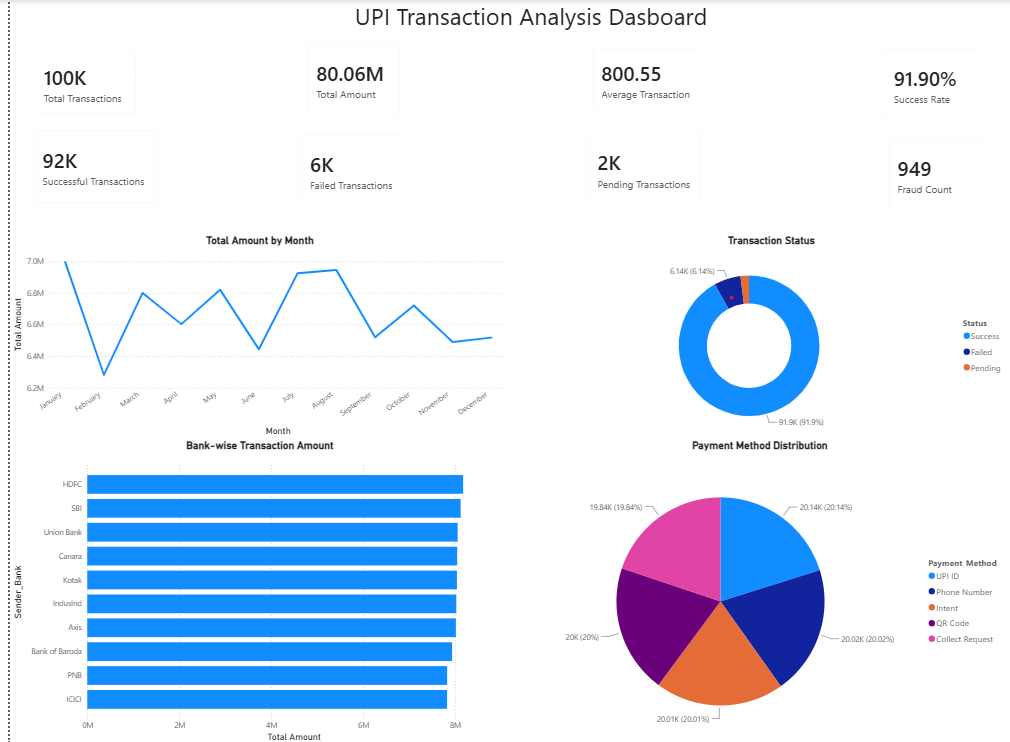

This screenshot's page, from the dashboard's own definition file:
{"tool":"powerbi","page":{"name":"Executive Dasboard","canvas":[1600,1200],"ordinal":0},"visuals":[{"type":"cardVisual","fields":{"Data":["cleaned_upi_transactions.Total Transactions"]},"box":[24.4,71.6,195.7,134.3],"z":0,"group":"g1"},{"type":"cardVisual","fields":{"Data":["cleaned_upi_transactions.Total Amount"]},"box":[460,57.8,181,150],"z":1000,"group":"g1"},{"type":"cardVisual","fields":{"Data":["cleaned_upi_transactions.Average Transaction"]},"box":[915.5,66.7,201.4,134.3],"z":2000,"group":"g1"},{"type":"cardVisual","fields":{"Data":["cleaned_upi_transactions.Successful Transactions"]},"box":[22.2,197.8,232.9,150],"z":3000,"group":"g2"},{"type":"cardVisual","fields":{"Data":["cleaned_upi_transactions.Failed Transactions"]},"box":[450.1,203,192.9,150],"z":4000,"group":"g2"},{"type":"cardVisual","fields":{"Data":["cleaned_upi_transactions.Pending Transactions"]},"box":[910.1,200.8,211.4,152.9],"z":5000,"group":"g2"},{"type":"cardVisual","fields":{"Data":["cleaned_upi_transactions.Success Rate"]},"box":[1384.4,66.7,181,150],"z":6000,"group":"g1"},{"type":"cardVisual","fields":{"Data":["cleaned_upi_transactions.Fraud Count"]},"box":[1390.6,209.4,181,150],"z":7000,"group":"g2"},{"type":"lineChart","fields":{"Y":["cleaned_upi_transactions.Total Amount"],"Category":["cleaned_upi_transactions.Month"]},"box":[0,380,800,328.9],"z":8000},{"type":"textbox","box":[426.7,2.2,815.6,60],"z":8001},{"type":"group","id":"g1","title":"Group 1","box":[24.4,57.8,1541,158.9],"z":8002},{"type":"group","id":"g2","title":"Group 2","box":[22.2,197.8,1549.4,161.6],"z":8003},{"type":"donutChart","title":"Transaction Status","fields":{"Category":["cleaned_upi_transactions.Status"],"Y":["CountNonNull(cleaned_upi_transactions.Transaction_ID)"]},"box":[835.6,380,764.4,328.9],"z":8004},{"type":"pieChart","title":"Payment Method Distribution","fields":{"Category":["cleaned_upi_transactions.Payment_Method"],"Y":["CountNonNull(cleaned_upi_transactions.Transaction_ID)"]},"box":[800,708.9,800,491.1],"z":8005},{"type":"clusteredBarChart","title":"Bank-wise Transaction Amount","fields":{"Category":["cleaned_upi_transactions.Sender_Bank"],"Y":["cleaned_upi_transactions.Total Amount"]},"box":[0,708.9,800,491.1],"z":8006}]}

Visuals, with their boxes in screenshot pixels (x1, y1, x2, y2), scaled from the page's 1600x1200 canvas onto the 1010x742 screenshot:
cardVisual - cleaned_upi_transactions.Total Transactions: x1=15, y1=44, x2=139, y2=127
cardVisual - cleaned_upi_transactions.Total Amount: x1=290, y1=36, x2=405, y2=128
cardVisual - cleaned_upi_transactions.Average Transaction: x1=578, y1=41, x2=705, y2=124
cardVisual - cleaned_upi_transactions.Successful Transactions: x1=14, y1=122, x2=161, y2=215
cardVisual - cleaned_upi_transactions.Failed Transactions: x1=284, y1=126, x2=406, y2=218
cardVisual - cleaned_upi_transactions.Pending Transactions: x1=575, y1=124, x2=708, y2=219
cardVisual - cleaned_upi_transactions.Success Rate: x1=874, y1=41, x2=988, y2=134
cardVisual - cleaned_upi_transactions.Fraud Count: x1=878, y1=129, x2=992, y2=222
lineChart - cleaned_upi_transactions.Total Amount x cleaned_upi_transactions.Month: x1=0, y1=235, x2=505, y2=438
textbox: x1=269, y1=1, x2=784, y2=38
"Group 1" group: x1=15, y1=36, x2=988, y2=134
"Group 2" group: x1=14, y1=122, x2=992, y2=222
"Transaction Status" donutChart: x1=527, y1=235, x2=1009, y2=438
"Payment Method Distribution" pieChart: x1=505, y1=438, x2=1009, y2=741
"Bank-wise Transaction Amount" clusteredBarChart: x1=0, y1=438, x2=505, y2=741
